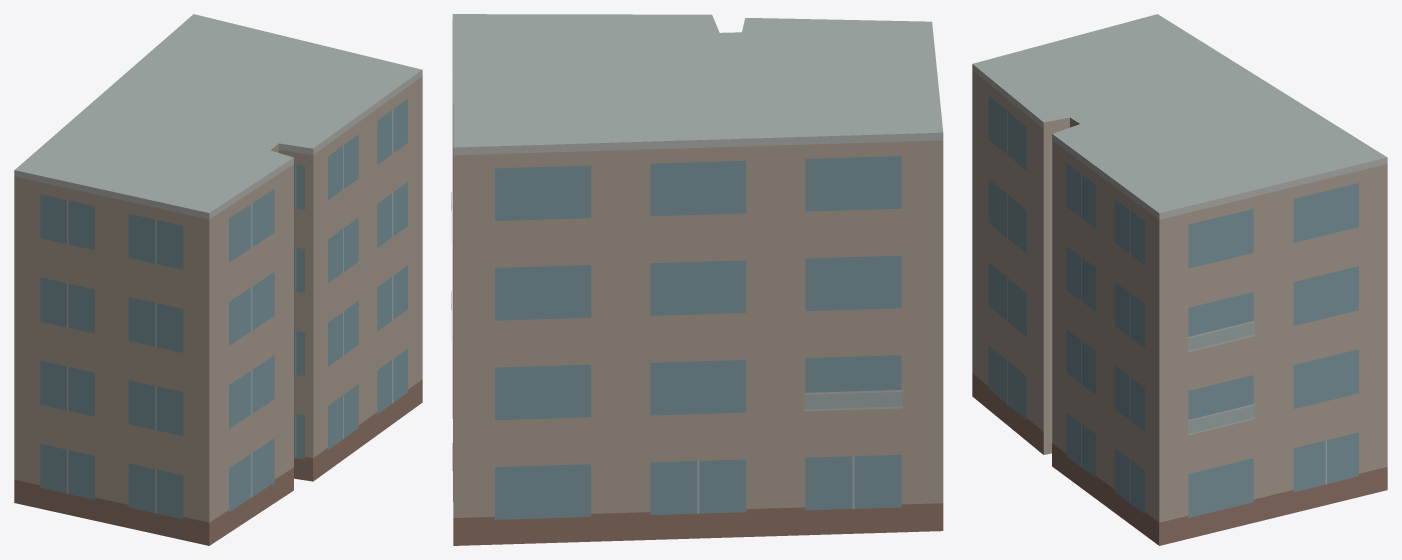
The model's file is survey-upis-32460788.glb.
The picture shows the model from 3 angles, left to right: view 1: azimuth 30°, elevation 25°; view 2: azimuth 150°, elevation 25°; view 3: azimuth 270°, elevation 25°; orthographic projection. The views are drawn at different scales.
Parts seen in each view (by area): view 1: survey-upis-32460788.tmp; view 2: survey-upis-32460788.tmp; view 3: survey-upis-32460788.tmp.
Part boxes in pixels (x1,y1,x2,y2): survey-upis-32460788.tmp: (14, 14, 422, 545); survey-upis-32460788.tmp: (451, 14, 943, 545); survey-upis-32460788.tmp: (972, 14, 1387, 545).
Bounding box in the file's own units: 16.21 × 12.6 × 14.27.
